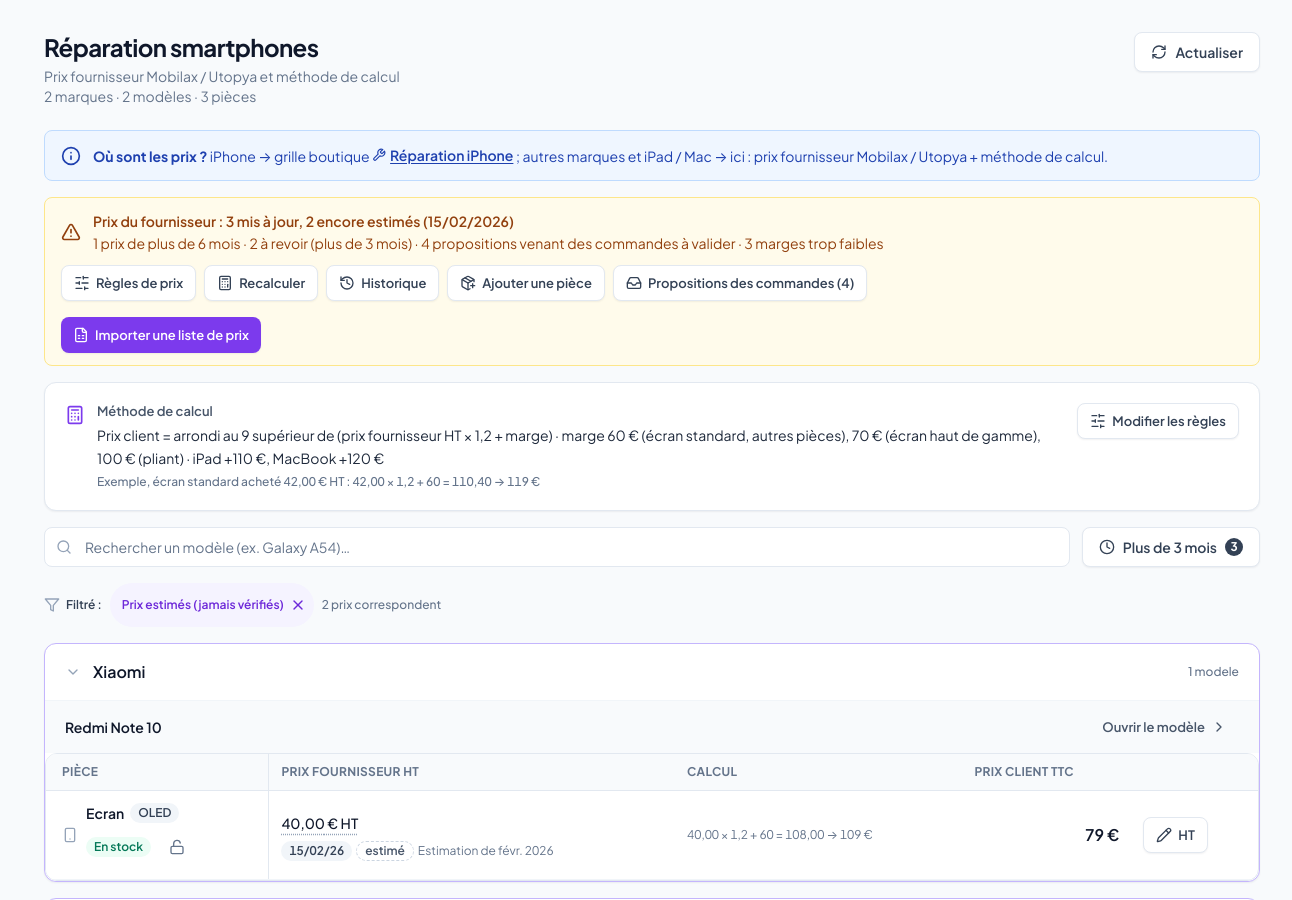
Test: TarifsPage : filtres envoyés par le tableau de bord › ?source=estimation : seules les pièces estimées, puce effaçable qui rend toute la grille
Expected: the message reads "2 prix correspondent", [322,597,441,614]
Expected: the heading "Redmi Note 10" is shown, [65,717,162,737]
Click the button with aria-label "Retirer le filtre": (212, 605) [110,583,314,627]
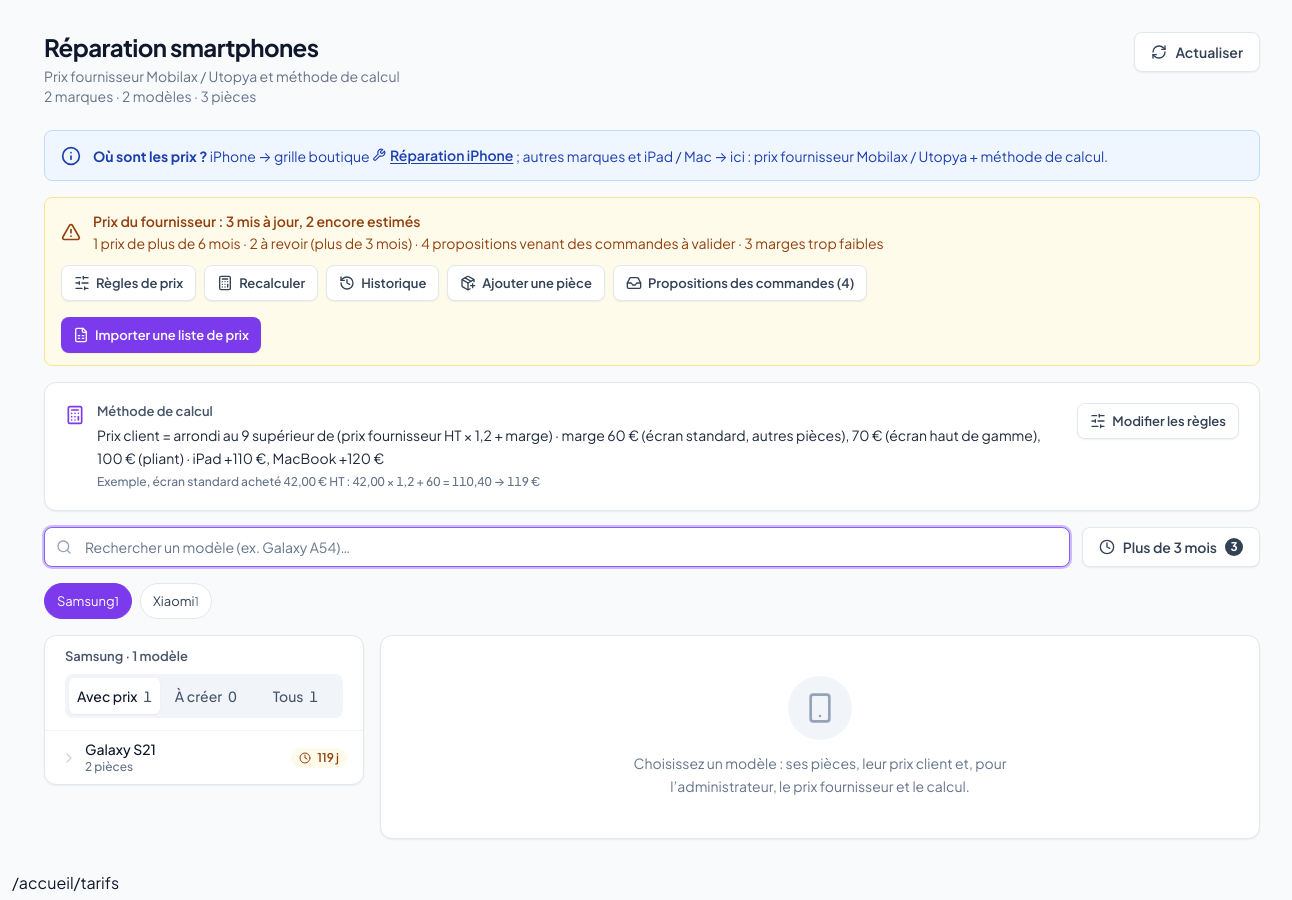
Expected: the text with test id "adresse" reads "/accueil/tarifs", [12,872,119,893]
Expected: the element named "Marques" is shown, [44,583,212,619]
